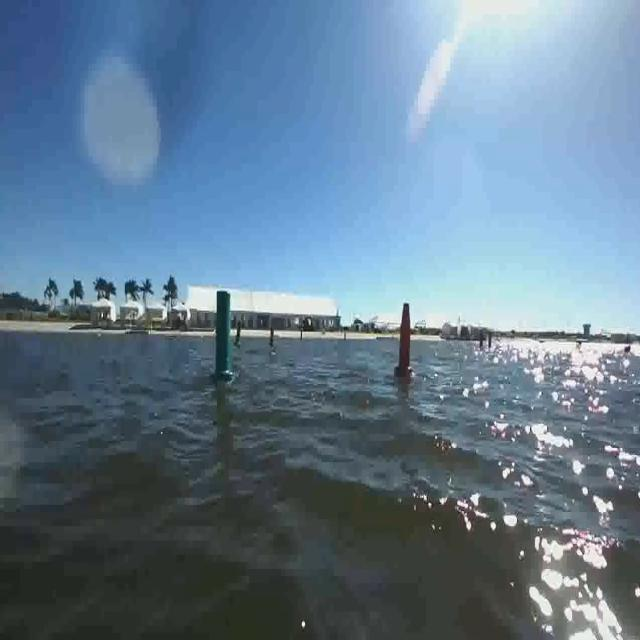green-column-buoy: (210, 290, 234, 384)
red-column-buoy: (396, 300, 416, 381)
